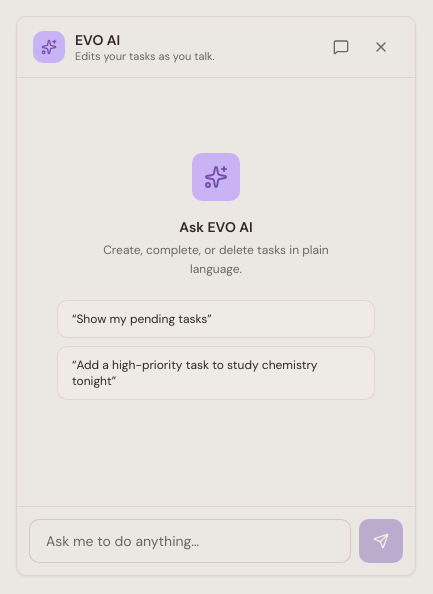
Test case: a turn that did not fully succeed says so › marks a partial turn and names the tools that failed
(page scrolled)
Step 1. Type "delete a task that does not exist" into the field with placeholder "Ask me to do anything…" → (190, 541), box [29,519,351,563]
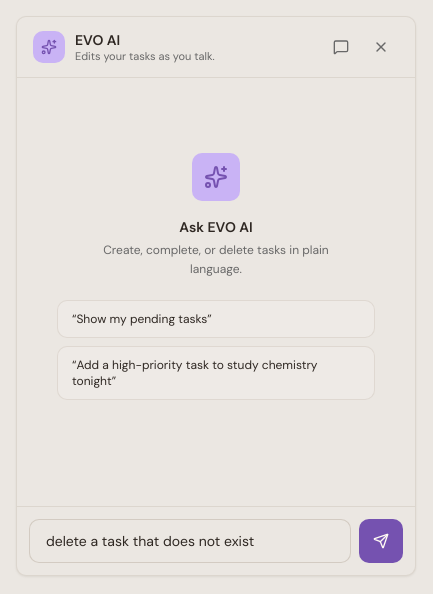
Step 2. Click the button named "send" → (381, 541), box [359,519,403,563]
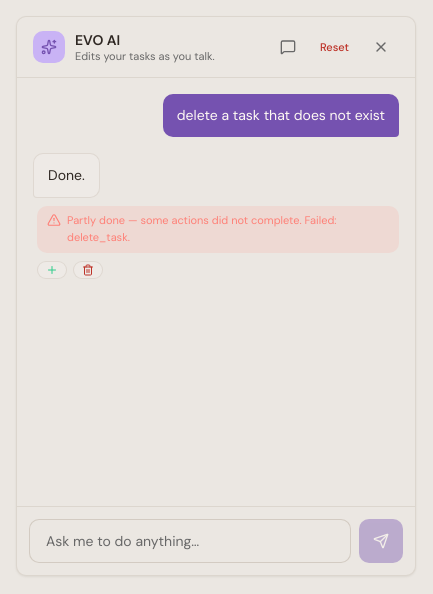
Check: the message shows "Partly done", box [67,212,302,226]
Check: the message shows "delete_task", box [67,230,128,244]
